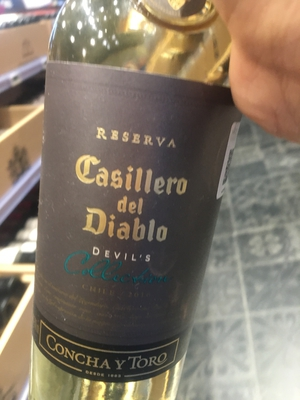casillero del diablo devils collection verde: (24, 2, 249, 400)
